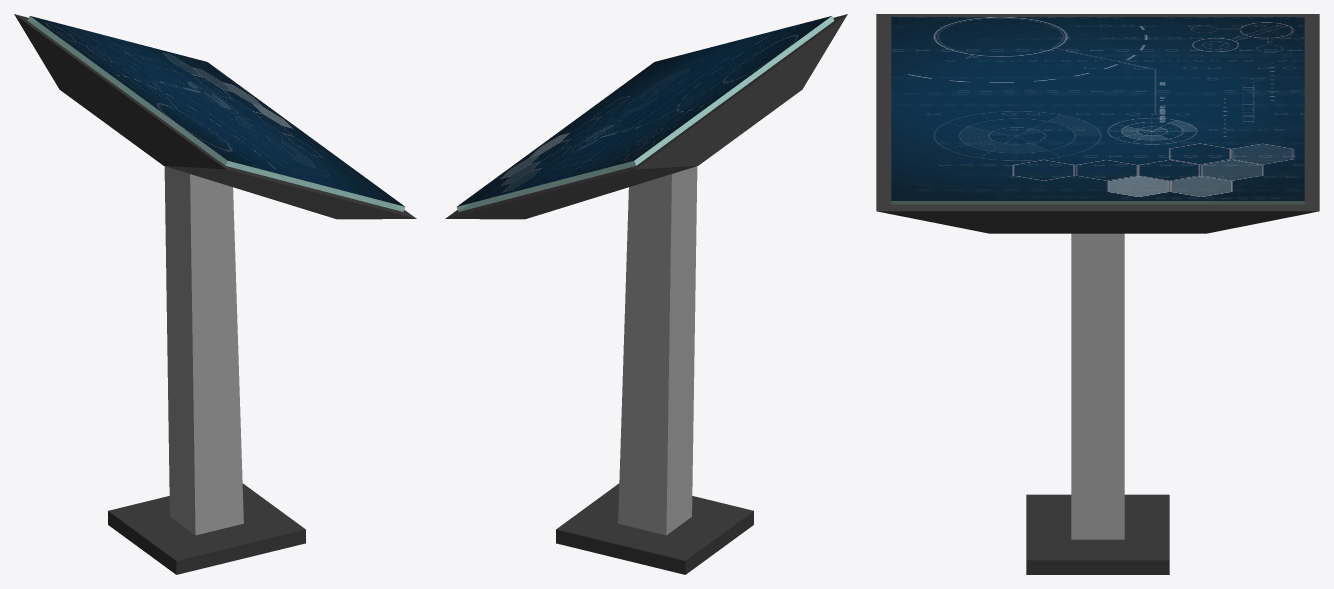
Rendered from Switch.fbx.
3 views of the same model, side by side, from view 1: azimuth 30°, elevation 25°; view 2: azimuth 150°, elevation 25°; view 3: azimuth 270°, elevation 25° (orthographic). The views are drawn at different scales.
Parts seen in each view (by area): view 1: pCube1; view 2: pCube1; view 3: pCube1.
Boxes of the visible parts, x1,y1,x2,y2 form: pCube1: [14, 14, 416, 574]; pCube1: [445, 14, 847, 574]; pCube1: [876, 14, 1319, 574].
Size of the model in its own units: 20.75 by 46.27 by 38.3.
Materials: 4 (1 with a texture image).
